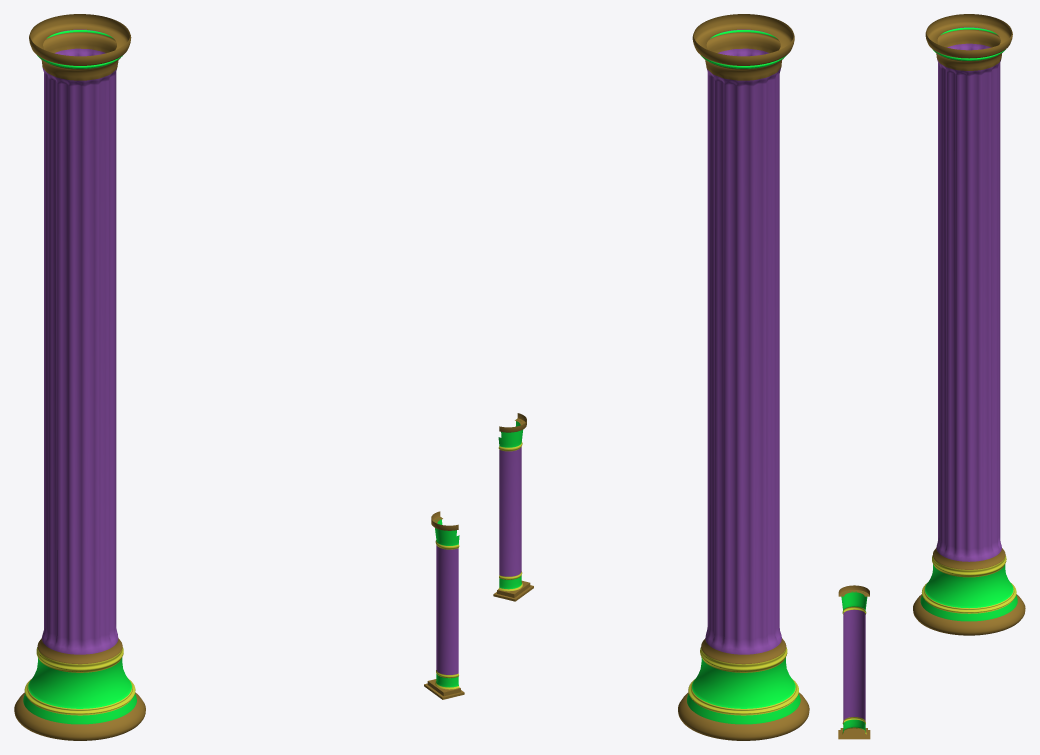
The model's file is Column Fancy.FBX.
3 views of the same model, side by side, from view 1: azimuth 30°, elevation 25°; view 2: azimuth 150°, elevation 25°; view 3: azimuth 270°, elevation 25° (orthographic). The views are drawn at different scales.
Parts seen in each view (by area): view 1: Column3_mid_Cylinder_014, Column1_middle_Cylinder_027; view 2: Column3_mid_Cylinder_014, Column1_middle_Cylinder_027; view 3: Column3_mid_Cylinder_014, Column1_middle_Cylinder_027.
Boxes of the visible parts, box(x1,y1,x2,y2) form: Column3_mid_Cylinder_014: box(14, 14, 145, 740); Column1_middle_Cylinder_027: box(424, 511, 464, 699); Column3_mid_Cylinder_014: box(678, 14, 809, 740); Column1_middle_Cylinder_027: box(493, 413, 533, 601); Column3_mid_Cylinder_014: box(913, 14, 1025, 635); Column1_middle_Cylinder_027: box(838, 585, 870, 739).
Bounding box in the file's own units: 16.72 × 29.69 × 8.67.
